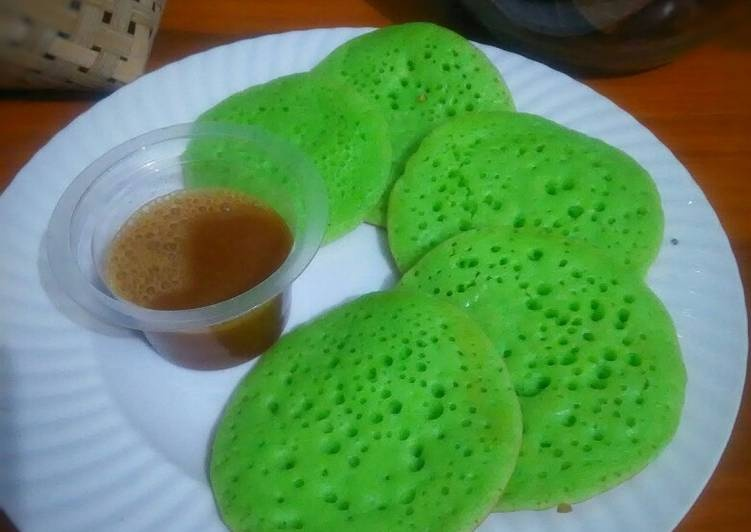srabi: (168, 281, 515, 519)
